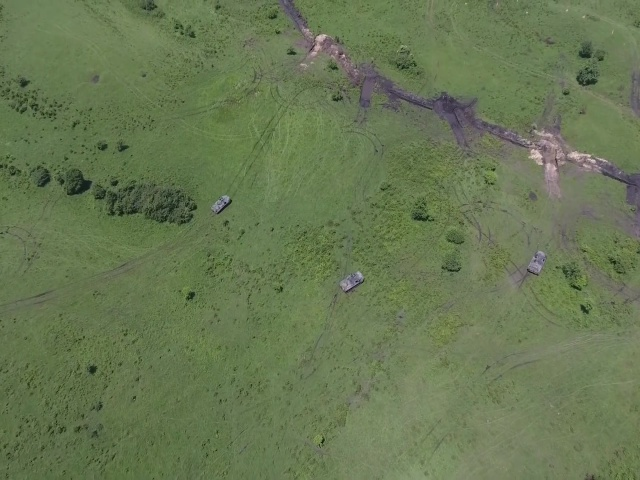vehicle: (338, 270, 365, 292), (527, 248, 547, 275), (211, 194, 231, 214)
